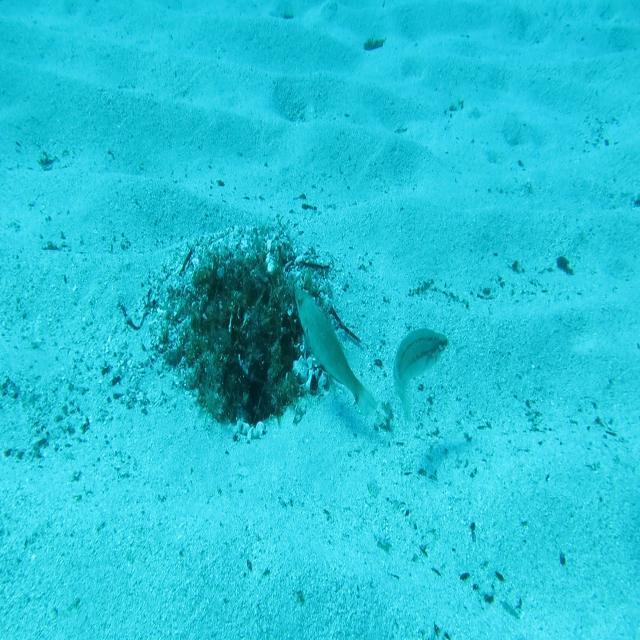BN: (292, 282, 381, 423)
core_nest: (218, 272, 280, 307)
female: (393, 326, 450, 429)
nest: (139, 213, 353, 449)
vegetation: (361, 34, 388, 52)
